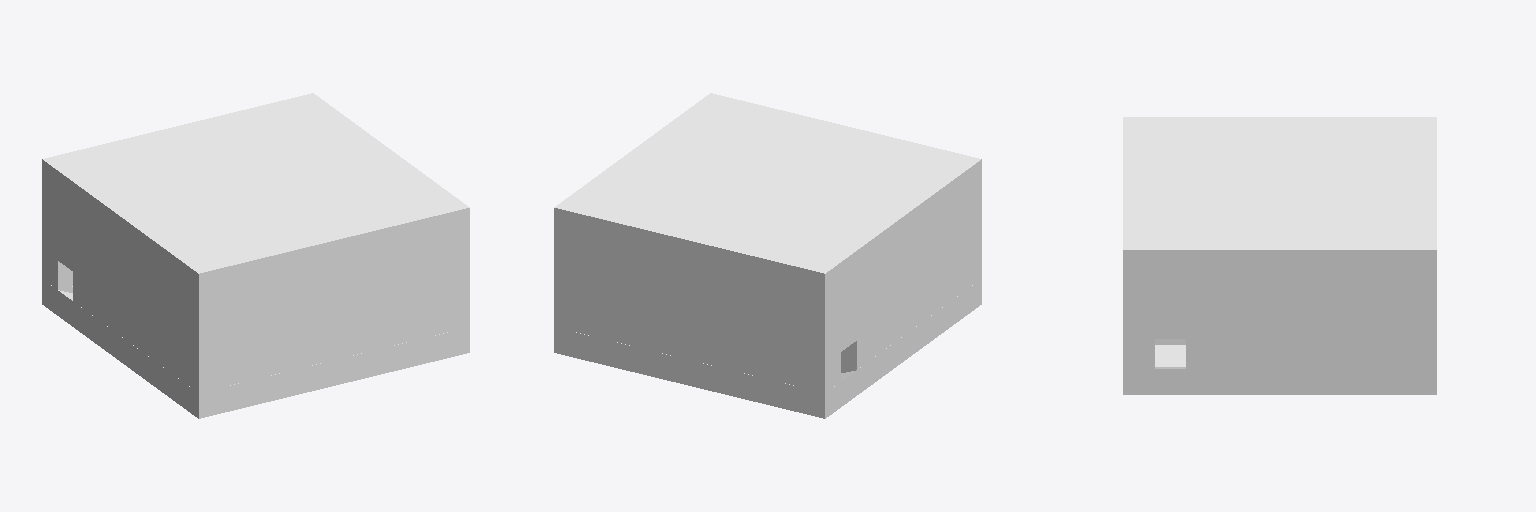
File: 60x60_p_house.obj
3 views of the same model, side by side, from view 1: azimuth 30°, elevation 25°; view 2: azimuth 150°, elevation 25°; view 3: azimuth 270°, elevation 25° (orthographic).
Visible parts, largest first — view 1: grid3; view 2: grid3; view 3: grid3.
Boxes of the visible parts, box(x1,y1,x2,y2) form: grid3: box(42, 93, 469, 418); grid3: box(554, 93, 981, 418); grid3: box(1123, 117, 1436, 394).
Size of the model in its own units: 60 by 30.71 by 60.